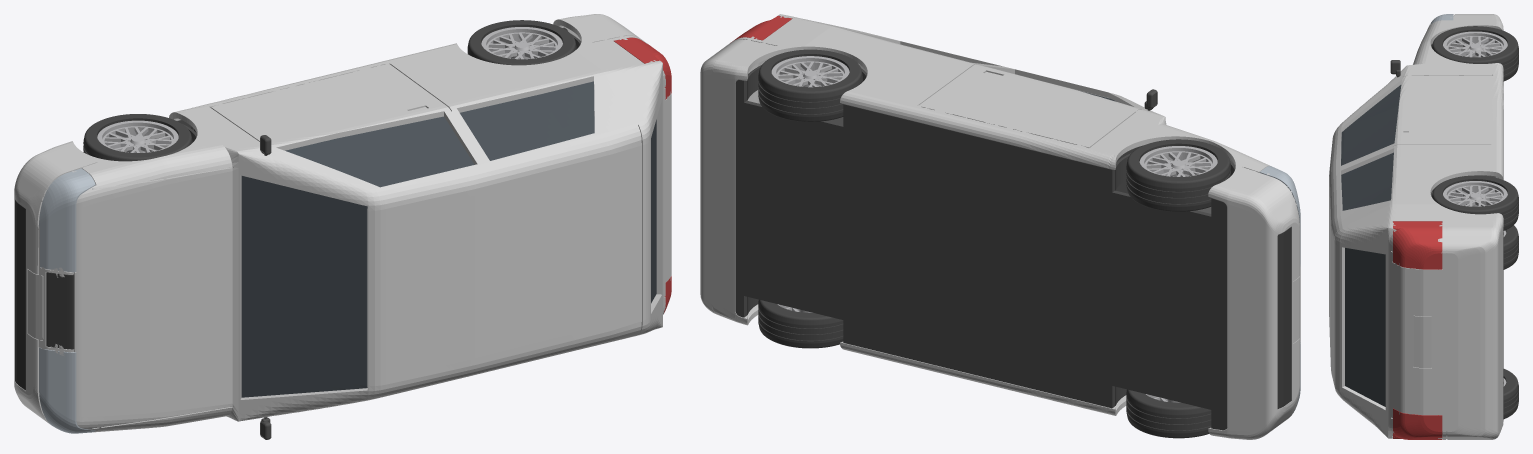
File: montagem.glb
The picture shows the model from 3 angles, left to right: view 1: azimuth 30°, elevation 25°; view 2: azimuth 150°, elevation 25°; view 3: azimuth 270°, elevation 25°; orthographic projection. The views are drawn at different scales.
Visible parts, largest first — view 1: carroceria, vidro_para_brisa, vidro_porta_esquerdo, vidro_quebra_vento_traseiro_esquerdo, farol_esquerdo, farol_direito, pneu411, grade_superior, roda1781, roda411, grade_inferior, pneu1781 (+3 smaller); view 2: chassi, carroceria, pneu411, pneu1781, pneu178-1, pneu41-1, grade_inferior, roda1781, roda411, lanterna_esquerda; view 3: carroceria, vidro_traseiro, vidro_porta_esquerdo, lanterna_esquerda, vidro_quebra_vento_traseiro_esquerdo, pneu1781, pneu411, roda411, roda1781, lanterna_direita, placa_traseira, pneu178-1 (+2 smaller).
Boxes of the visible parts, x1,y1,x2,y2 form: carroceria: (14, 14, 671, 432); vidro_para_brisa: (241, 176, 367, 397); vidro_porta_esquerdo: (285, 116, 474, 187); vidro_quebra_vento_traseiro_esquerdo: (460, 81, 594, 160); farol_esquerdo: (39, 168, 95, 272); farol_direito: (39, 347, 95, 433); pneu411: (83, 114, 192, 161); grade_superior: (46, 272, 74, 349); roda1781: (481, 27, 562, 59); roda411: (97, 120, 178, 152); grade_inferior: (15, 199, 25, 390); pneu1781: (467, 20, 576, 65); chassi: (735, 65, 1235, 430); carroceria: (700, 14, 1300, 439); pneu411: (1126, 139, 1230, 211); pneu1781: (758, 49, 862, 121); pneu178-1: (758, 299, 843, 348); pneu41-1: (1126, 389, 1211, 438); grade_inferior: (1277, 227, 1291, 408); roda1781: (771, 56, 849, 87); roda411: (1139, 146, 1217, 176); lanterna_esquerda: (730, 15, 791, 42); carroceria: (1329, 14, 1503, 439); vidro_traseiro: (1345, 248, 1385, 406); vidro_porta_esquerdo: (1341, 85, 1401, 165); lanterna_esquerda: (1393, 221, 1442, 269); vidro_quebra_vento_traseiro_esquerdo: (1341, 152, 1393, 210); pneu1781: (1432, 175, 1518, 230); pneu411: (1432, 26, 1518, 81); roda411: (1443, 31, 1507, 57); roda1781: (1443, 181, 1507, 206); lanterna_direita: (1393, 408, 1442, 439); placa_traseira: (1413, 315, 1431, 368); pneu178-1: (1503, 369, 1518, 418).
Size of the model in its own units: 218 by 103 by 73.61.
